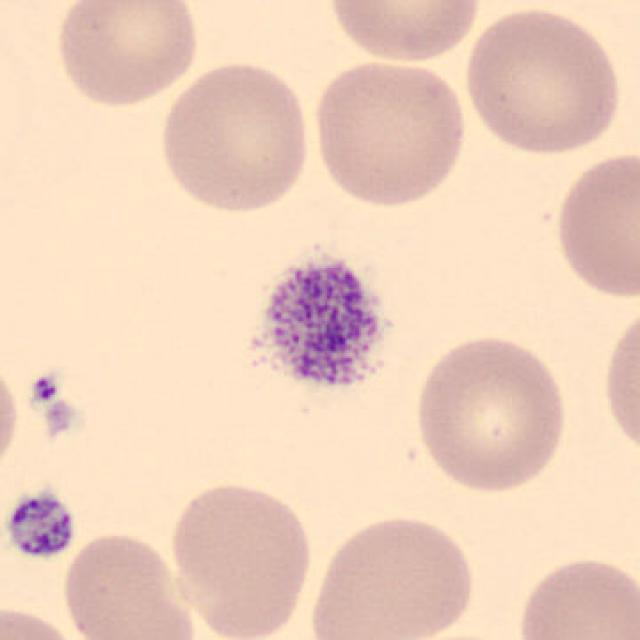Platelets: (231, 243, 402, 413), (4, 487, 78, 562), (26, 370, 80, 433)
RBC: (409, 330, 572, 497), (153, 56, 316, 217), (458, 3, 626, 158), (308, 54, 471, 210), (166, 476, 316, 638), (306, 509, 480, 640), (49, 0, 202, 109), (59, 527, 201, 640), (550, 146, 638, 304), (512, 550, 638, 640), (324, 0, 486, 65), (597, 296, 640, 467), (0, 601, 87, 640), (0, 354, 23, 480)
